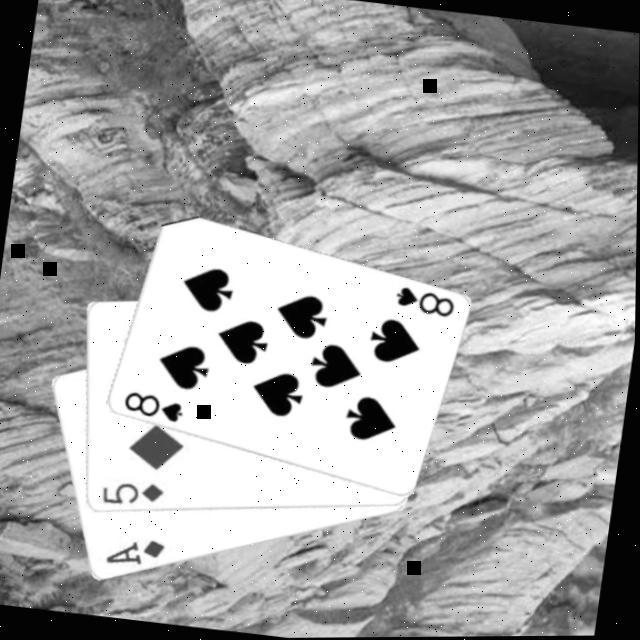5D: (99, 476, 169, 514)
8S: (390, 283, 460, 323), (120, 388, 188, 428)
AD: (102, 532, 170, 574)
